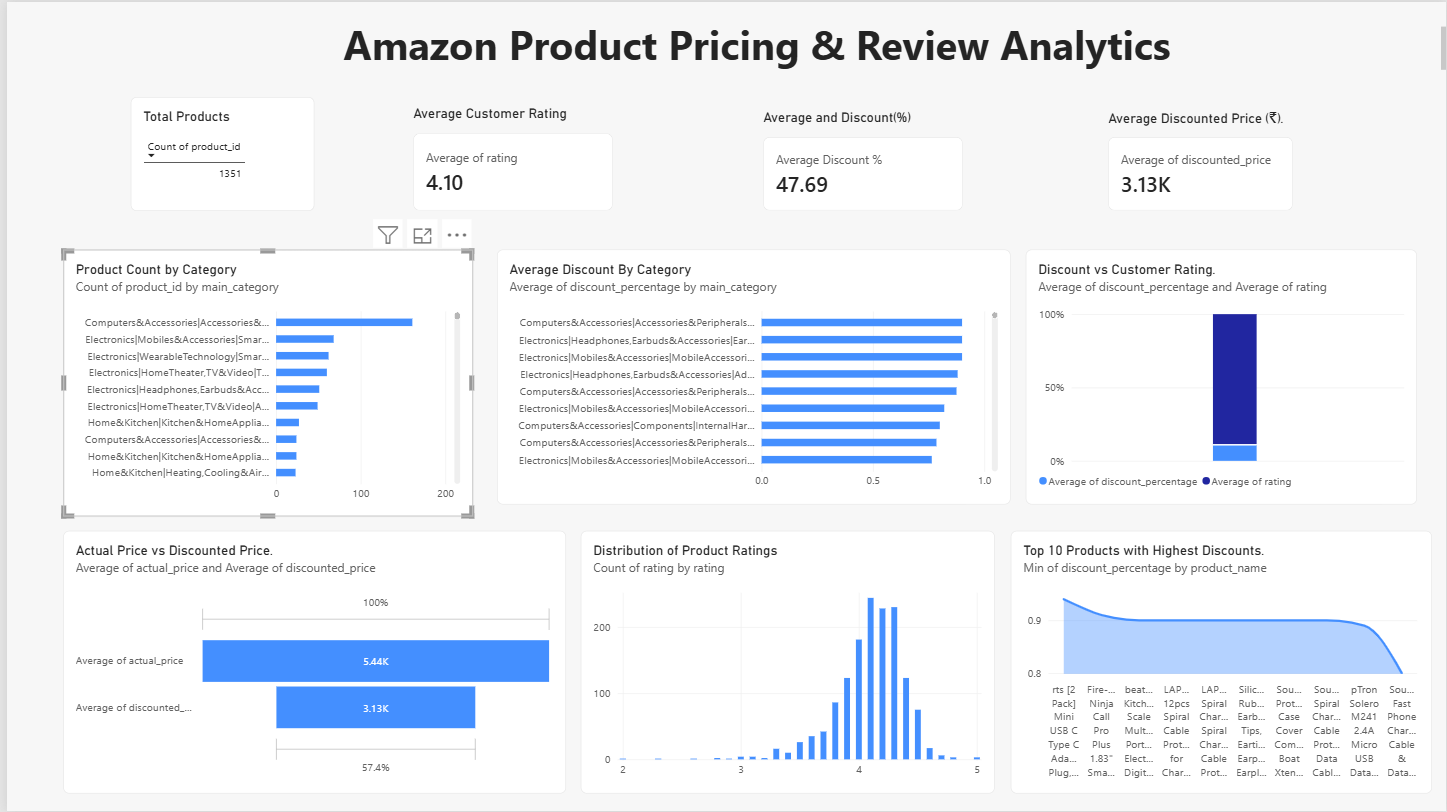

This screenshot's page, from the dashboard's own definition file:
{"tool":"powerbi","page":{"name":"Page 1","canvas":[1920,1080],"ordinal":0},"visuals":[{"type":"tableEx","title":"Total Products","fields":{"Values":["amazon.product_id"]},"box":[165,126.7,245,151.7],"z":0},{"type":"cardVisual","title":"Average Customer Rating","fields":{"Data":["Avg(amazon.rating)"]},"box":[541.7,138.3,266.7,140],"z":1000},{"type":"cardVisual","title":"Average and Discount(%)","fields":{"Data":["amazon.Average Discount %"]},"box":[1008.3,143.3,266.7,135],"z":2000},{"type":"cardVisual","title":"Average Discounted Price (₹).","fields":{"Data":["Avg(amazon.discounted_price)"]},"box":[1468.3,143.3,246.7,135],"z":3000},{"type":"clusteredBarChart","title":"Product Count by Category","fields":{"Category":["amazon.category"],"Y":["Count(amazon.product_id)"]},"box":[75,330,546.7,356.7],"z":4000},{"type":"clusteredBarChart","title":"Average Discount By Category","fields":{"Category":["amazon.category"],"Y":["Avg(amazon.discount_percentage)"]},"box":[653.3,330,685,340],"z":5000},{"type":"clusteredColumnChart","title":"Distribution of Product Ratings","fields":{"Category":["amazon.rating"],"Y":["CountNonNull(amazon.rating)"]},"box":[765,705,551.7,350],"z":6000},{"type":"funnel","title":"Actual Price vs Discounted Price.","fields":{"Y":["Avg(amazon.actual_price)","Avg(amazon.discounted_price)"]},"box":[75,705,670,350],"z":7000},{"type":"areaChart","title":"Top 10 Products with Highest Discounts.","fields":{"Category":["amazon.product_name"],"Y":["Min(amazon.discount_percentage)"]},"box":[1338.3,705,561.7,350],"z":8000},{"type":"hundredPercentStackedColumnChart","title":"Discount vs Customer Rating.","fields":{"Y":["Avg(amazon.discount_percentage)","Avg(amazon.rating)"]},"box":[1358.3,330,521.7,340],"z":8001},{"type":"textbox","box":[0,0,1920,90],"z":8002}]}

Visuals, with their boxes in screenshot pixels (x1, y1, x2, y2), scaled from the page's 1920x1080 canvas onto the 1447x812 screenshot:
"Total Products" tableEx: detection(124, 95, 309, 209)
"Average Customer Rating" cardVisual: detection(408, 104, 609, 209)
"Average and Discount(%)" cardVisual: detection(760, 108, 961, 209)
"Average Discounted Price (₹)." cardVisual: detection(1107, 108, 1293, 209)
"Product Count by Category" clusteredBarChart: detection(57, 248, 469, 516)
"Average Discount By Category" clusteredBarChart: detection(492, 248, 1009, 504)
"Distribution of Product Ratings" clusteredColumnChart: detection(577, 530, 992, 793)
"Actual Price vs Discounted Price." funnel: detection(57, 530, 561, 793)
"Top 10 Products with Highest Discounts." areaChart: detection(1009, 530, 1432, 793)
"Discount vs Customer Rating." hundredPercentStackedColumnChart: detection(1024, 248, 1417, 504)
textbox: detection(0, 0, 1446, 68)
